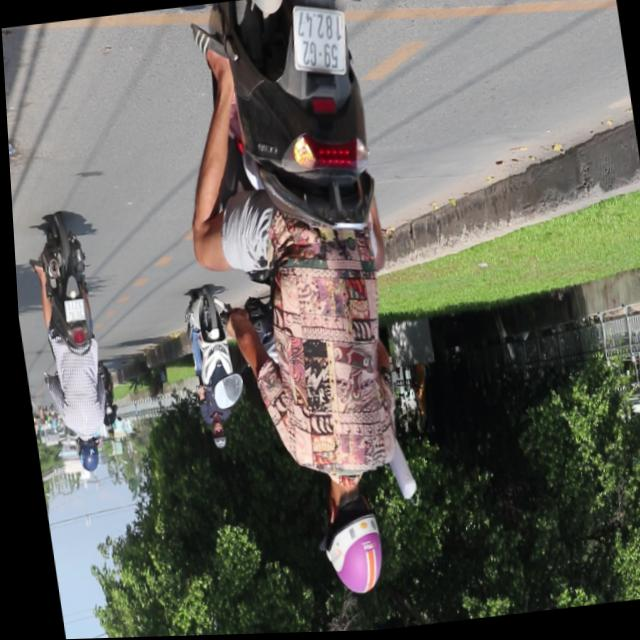helmet: (305, 477, 383, 600), (70, 434, 98, 475), (204, 419, 223, 450)
licenseplate: (151, 0, 445, 615), (19, 212, 117, 479), (173, 281, 250, 453)
nohelmet: (284, 0, 350, 81), (58, 298, 82, 323)
